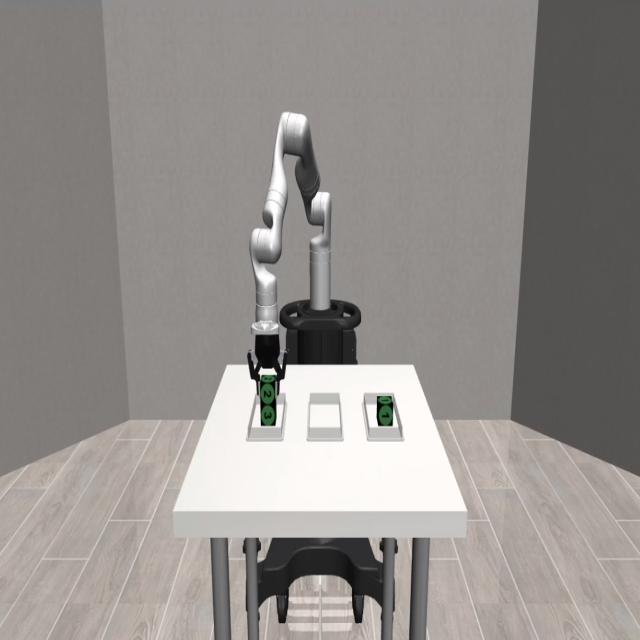cube1: (377, 394, 395, 429)
cube2: (259, 375, 277, 403)
cube3: (260, 401, 276, 426)
